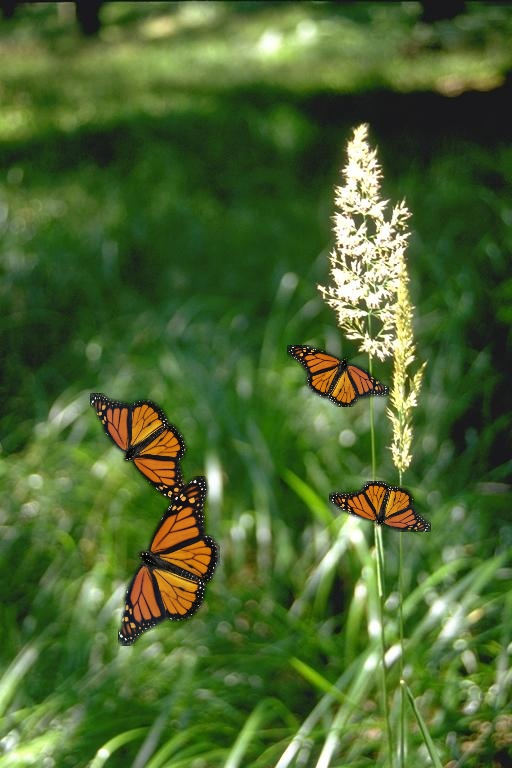danaus_plexippus: (118, 476, 220, 646), (90, 393, 192, 507), (287, 345, 389, 407), (329, 481, 431, 532)
